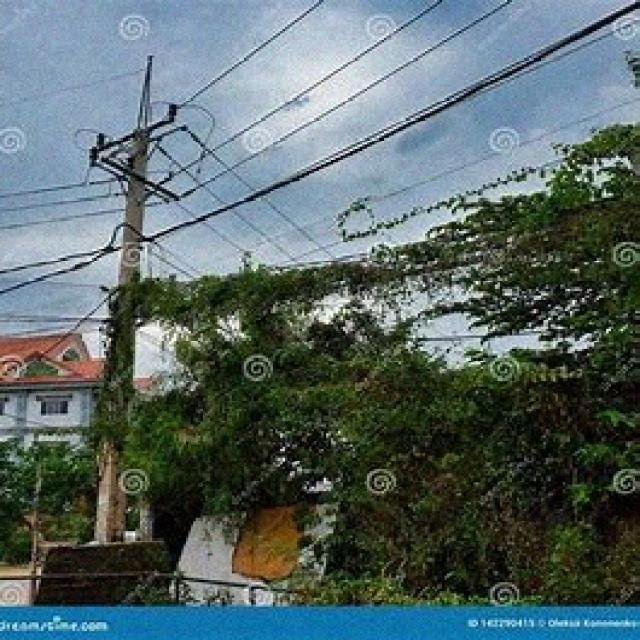critical vegetation: (108, 230, 634, 392)
